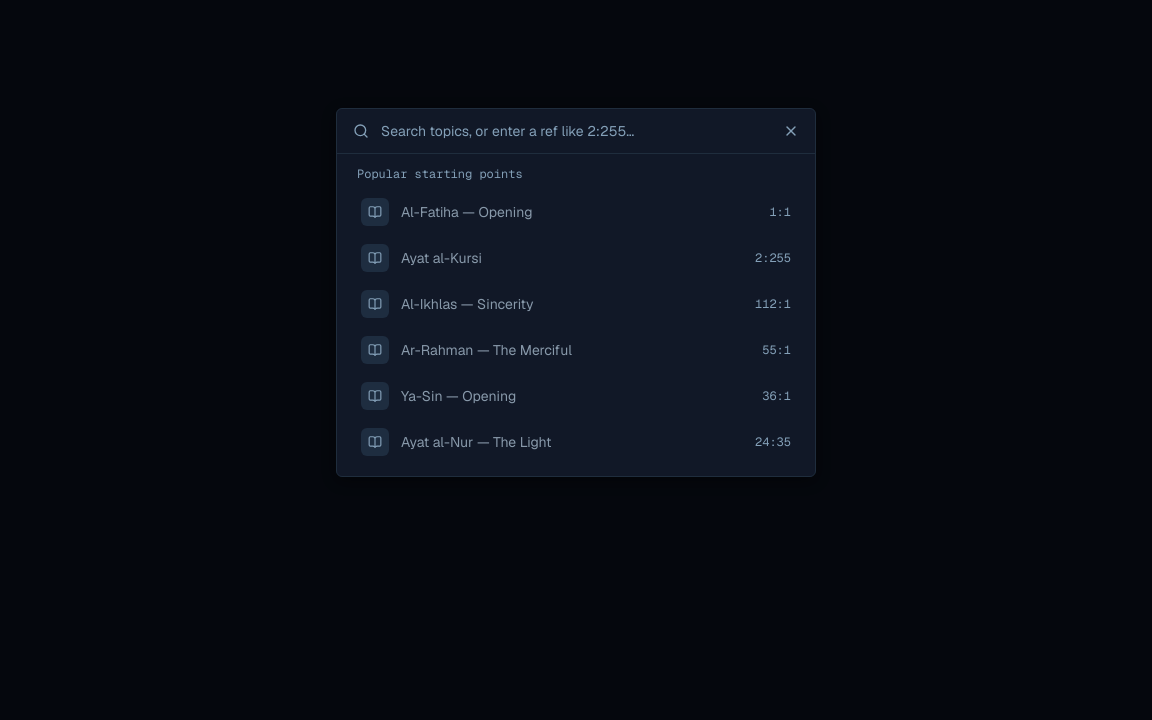
it: SearchDialog — rate-limit vs. genuine empty results › shows an 'unavailable' message when the upstream keyword API failed, not 'no results'
Type "mercy" into the dropdown with placeholder "Search topics, or enter a ref like 2:255…". click: (576,131)
box: [381,121,771,141]
Wait 420 ms
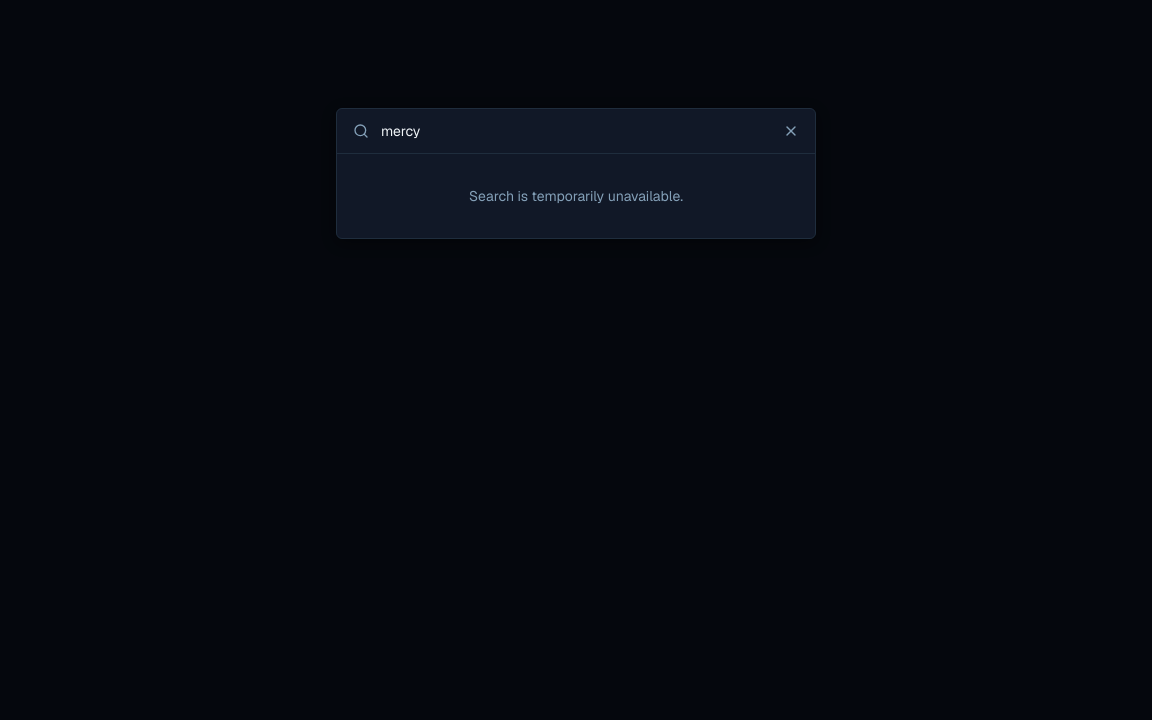
Expected: the text "Search is temporarily unavailable." is shown, [469,187,683,205]
